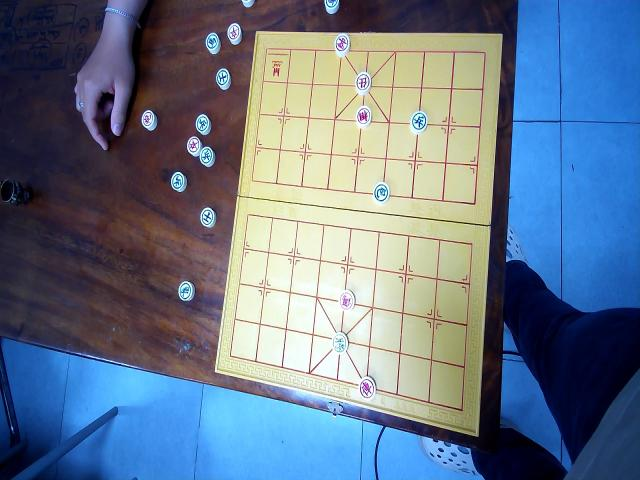piece: (358, 376, 376, 400), (410, 110, 428, 134), (372, 180, 389, 205), (356, 103, 372, 127), (226, 21, 242, 44), (354, 70, 370, 93), (332, 331, 348, 354), (334, 32, 350, 55), (204, 31, 220, 54), (178, 280, 195, 301), (339, 288, 355, 310), (200, 206, 216, 228), (170, 170, 186, 192), (195, 114, 211, 136), (140, 109, 156, 130), (199, 145, 215, 166), (216, 66, 230, 88), (186, 136, 200, 156), (324, 0, 340, 15), (241, 0, 254, 7)
